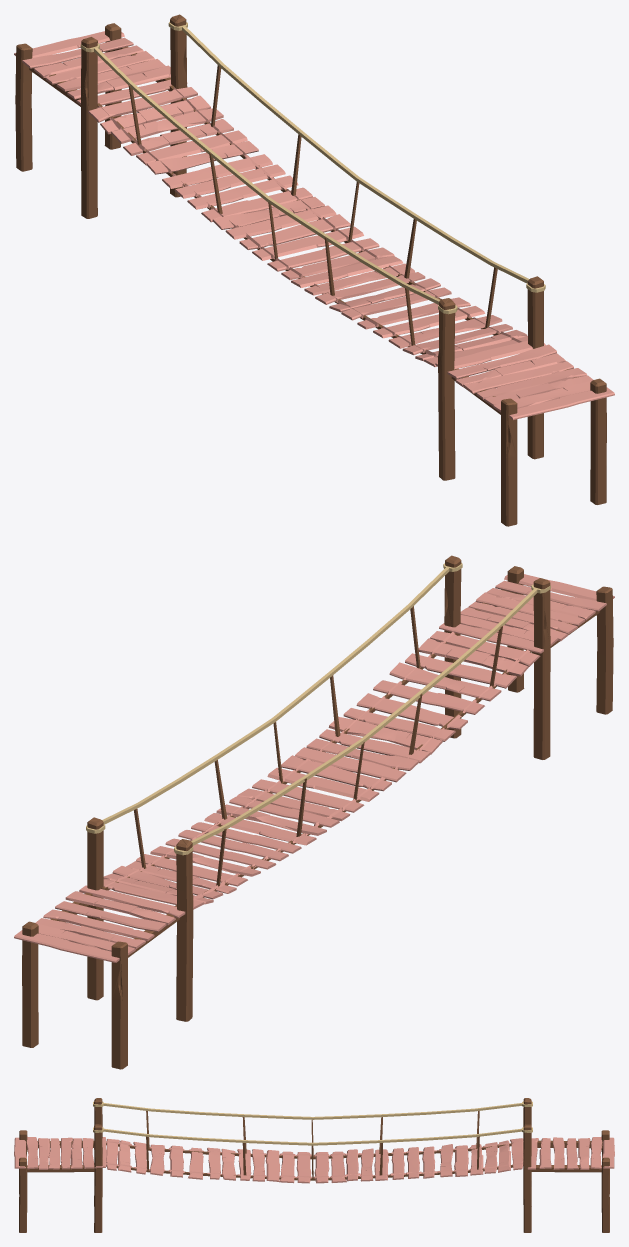
The model's file is Bridge.fbx.
The picture shows the model from 3 angles, top to bottom: view 1: azimuth 30°, elevation 25°; view 2: azimuth 150°, elevation 25°; view 3: azimuth 270°, elevation 25°; orthographic projection. The views are drawn at different scales.
Parts seen in each view (by area): view 1: Bridge; view 2: Bridge; view 3: Bridge.
Boxes of the visible parts, x1=… form: Bridge: x1=14, y1=14, x2=614, y2=526; Bridge: x1=14, y1=555, x2=614, y2=1069; Bridge: x1=14, y1=1098, x2=614, y2=1232.
Bounding box in the file's own units: 239 × 384 × 1967.
